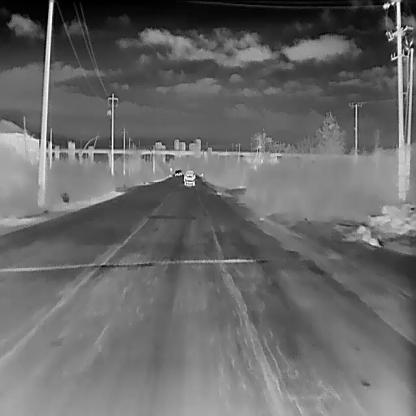car: (183, 169, 194, 186), (174, 169, 178, 175)
